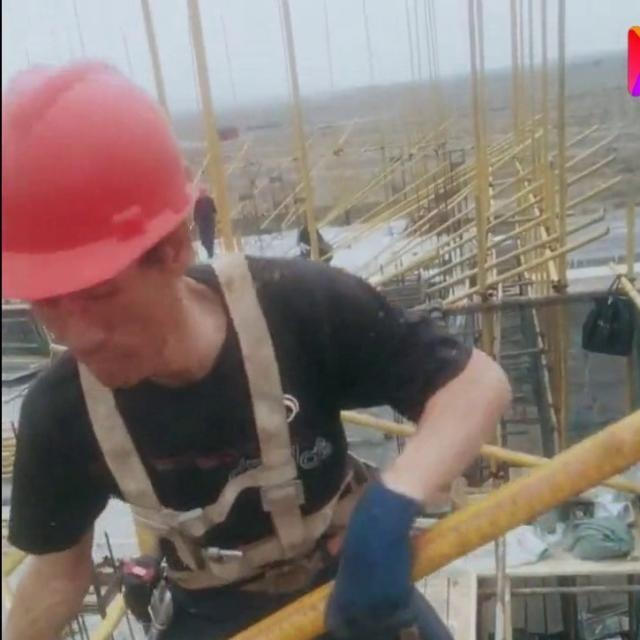Arnes_seguridad: (57, 248, 349, 589)
